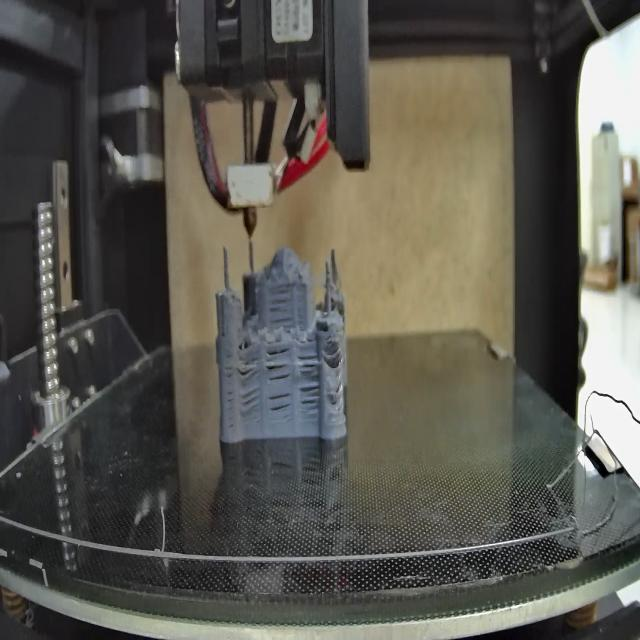cracks: (296, 350, 321, 417), (266, 280, 296, 327), (264, 342, 293, 383), (222, 348, 235, 429), (237, 346, 260, 382), (266, 388, 290, 419), (239, 390, 262, 420), (328, 339, 346, 374), (326, 382, 345, 412)
